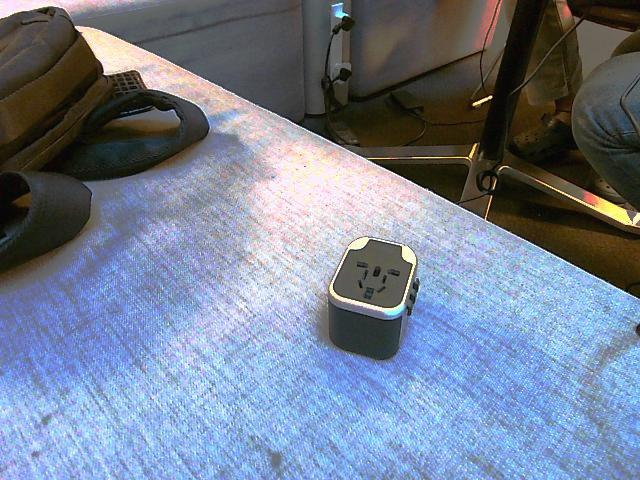adapter: (326, 236, 420, 360)
